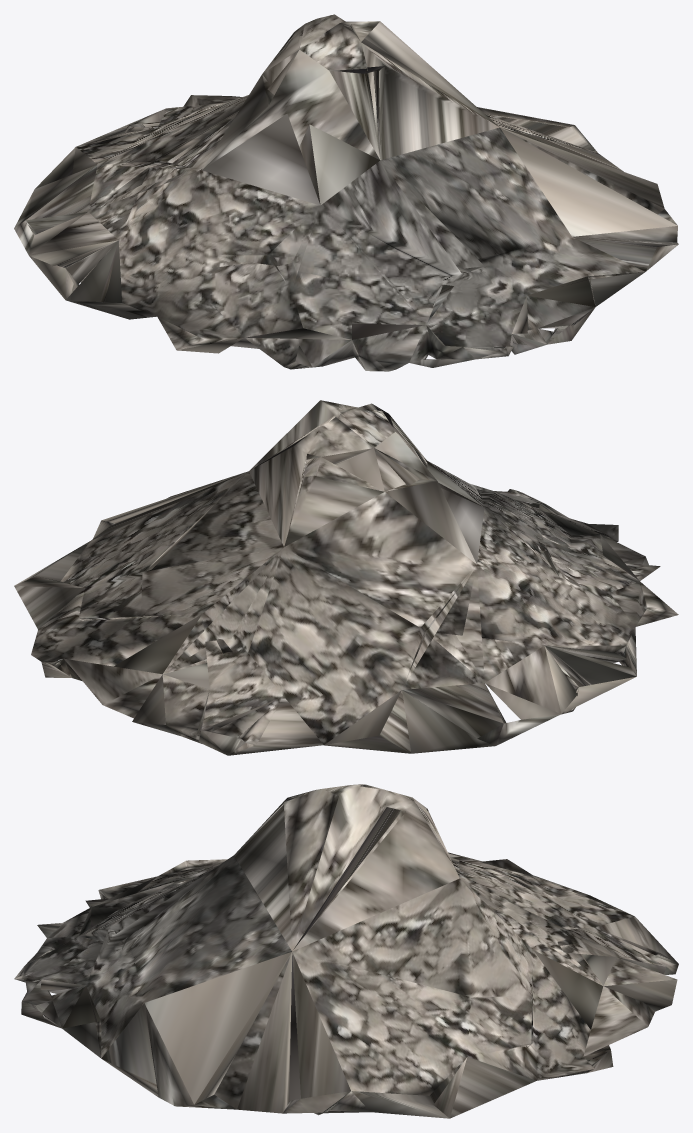
File: scree_a_lod2.glb
The picture shows the model from 3 angles, top to bottom: view 1: azimuth 30°, elevation 25°; view 2: azimuth 150°, elevation 25°; view 3: azimuth 270°, elevation 25°; orthographic projection.
Visible parts, largest first — view 1: scree_a_lod2; view 2: scree_a_lod2; view 3: scree_a_lod2.
Boxes of the visible parts, x1,y1,x2,y2 form: scree_a_lod2: [14, 14, 678, 371]; scree_a_lod2: [14, 400, 678, 755]; scree_a_lod2: [14, 784, 678, 1118].
Bounding box in the file's own units: 19.03 × 6.82 × 19.67.
Materials: 1 (1 with a texture image).
